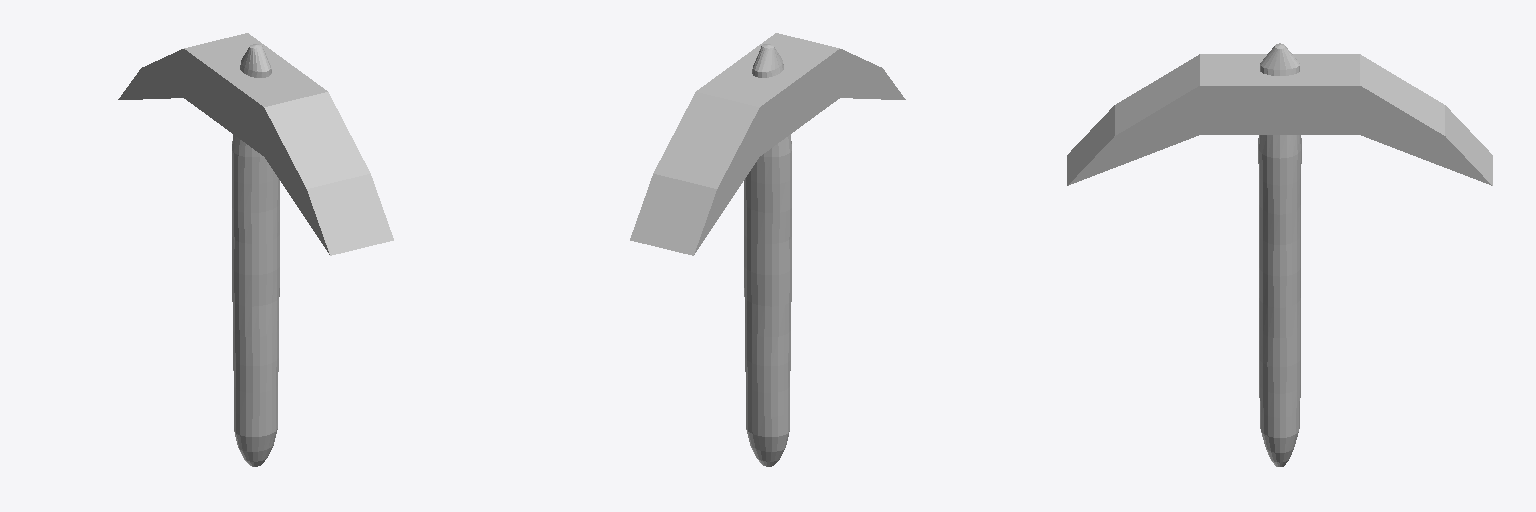
File: Pickaxe.obj
The picture shows the model from 3 angles: view 1: azimuth 30°, elevation 25°; view 2: azimuth 150°, elevation 25°; view 3: azimuth 270°, elevation 25°; orthographic projection.
Parts seen in each view (by area): view 1: Handle Head, Handle; view 2: Handle Head, Handle; view 3: Handle Head, Handle.
Part boxes in pixels (x1,y1,x2,y2): Handle Head: (118, 33, 393, 255); Handle: (232, 44, 279, 466); Handle Head: (630, 33, 905, 255); Handle: (744, 44, 791, 466); Handle Head: (1067, 54, 1492, 185); Handle: (1258, 43, 1301, 466).
Bounding box in the file's own units: 0.6956 × 4.38 × 4.